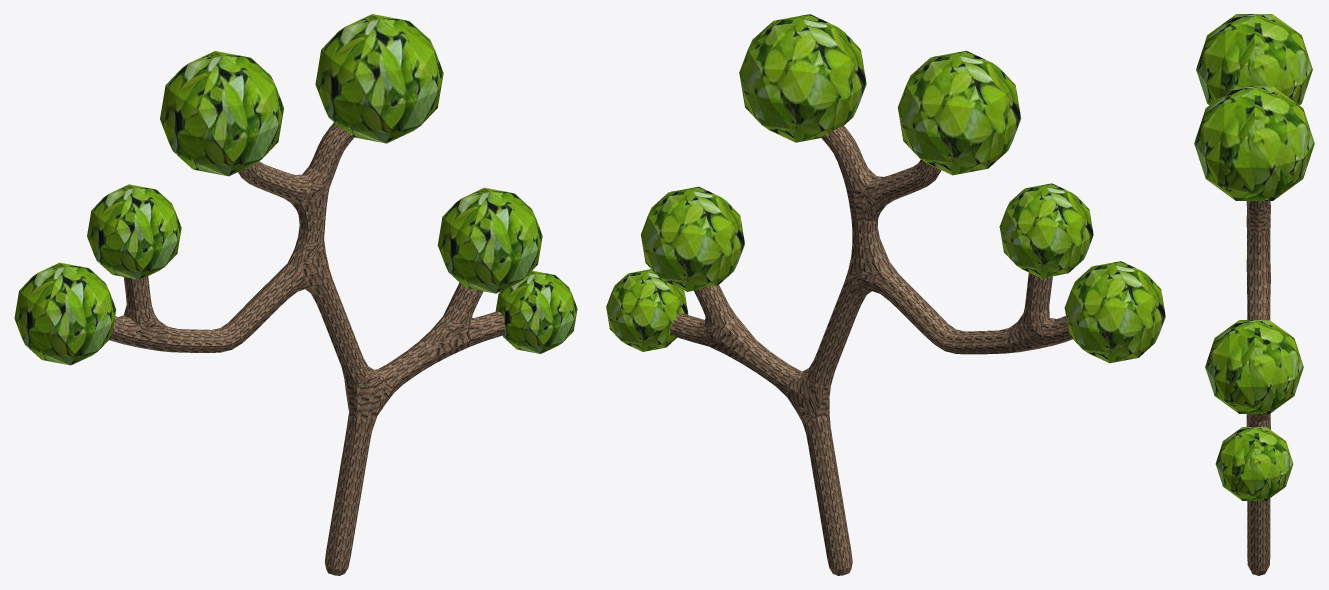
Rendered from tree.fbx.
The picture shows the model from 3 angles, left to right: view 1: azimuth 30°, elevation 25°; view 2: azimuth 150°, elevation 25°; view 3: azimuth 270°, elevation 25°; orthographic projection. The views are drawn at different scales.
Parts seen in each view (by area): view 1: leaves, tree trunk; view 2: leaves, tree trunk; view 3: leaves, tree trunk.
Boxes of the visible parts, x1=… form: leaves: x1=14, y1=14, x2=577, y2=365; tree trunk: x1=109, y1=123, x2=505, y2=575; leaves: x1=606, y1=14, x2=1165, y2=363; tree trunk: x1=670, y1=126, x2=1072, y2=575; leaves: x1=1194, y1=14, x2=1314, y2=500; tree trunk: x1=1246, y1=201, x2=1270, y2=575.
Size of the model in its own units: 507 by 486 by 105.
